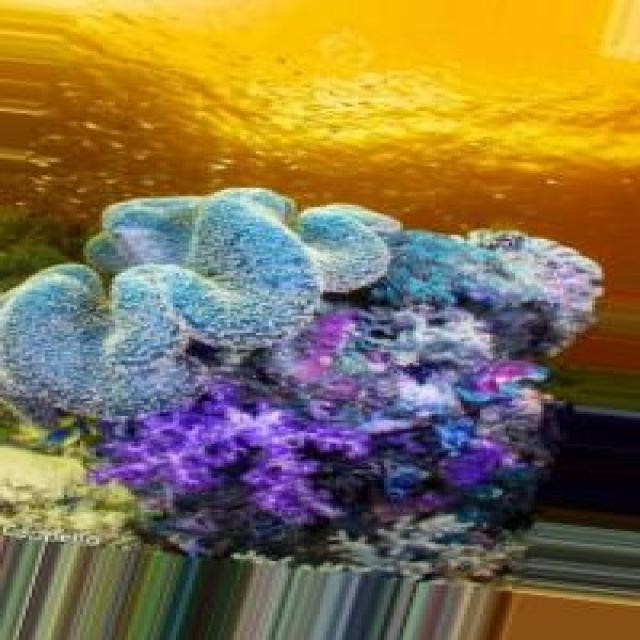Healthy: (39, 191, 603, 583)
